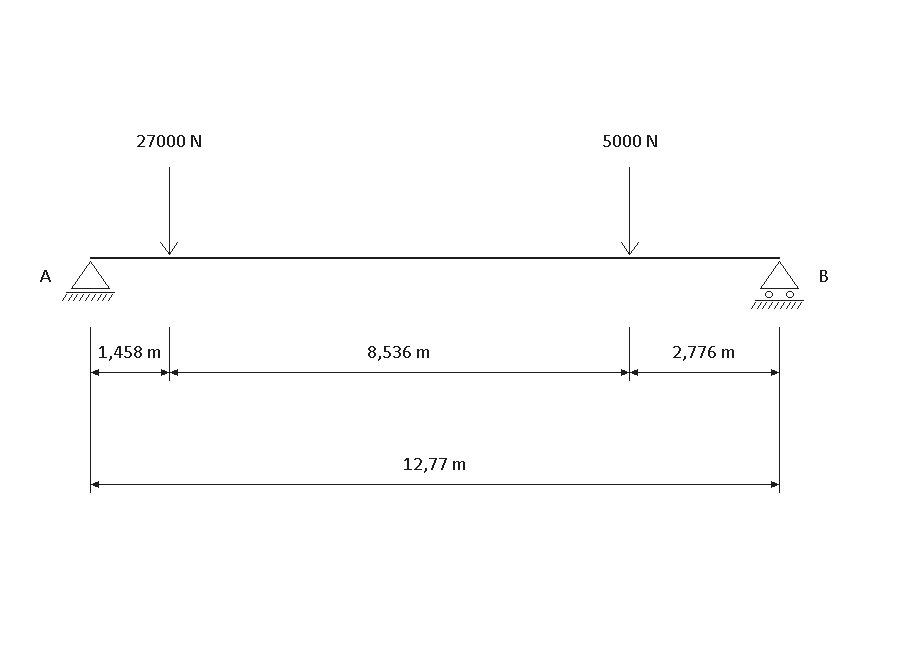pin_support: (62, 261, 115, 301)
point_load: (160, 167, 178, 255), (621, 167, 639, 255)
roller_support: (751, 261, 804, 309)
